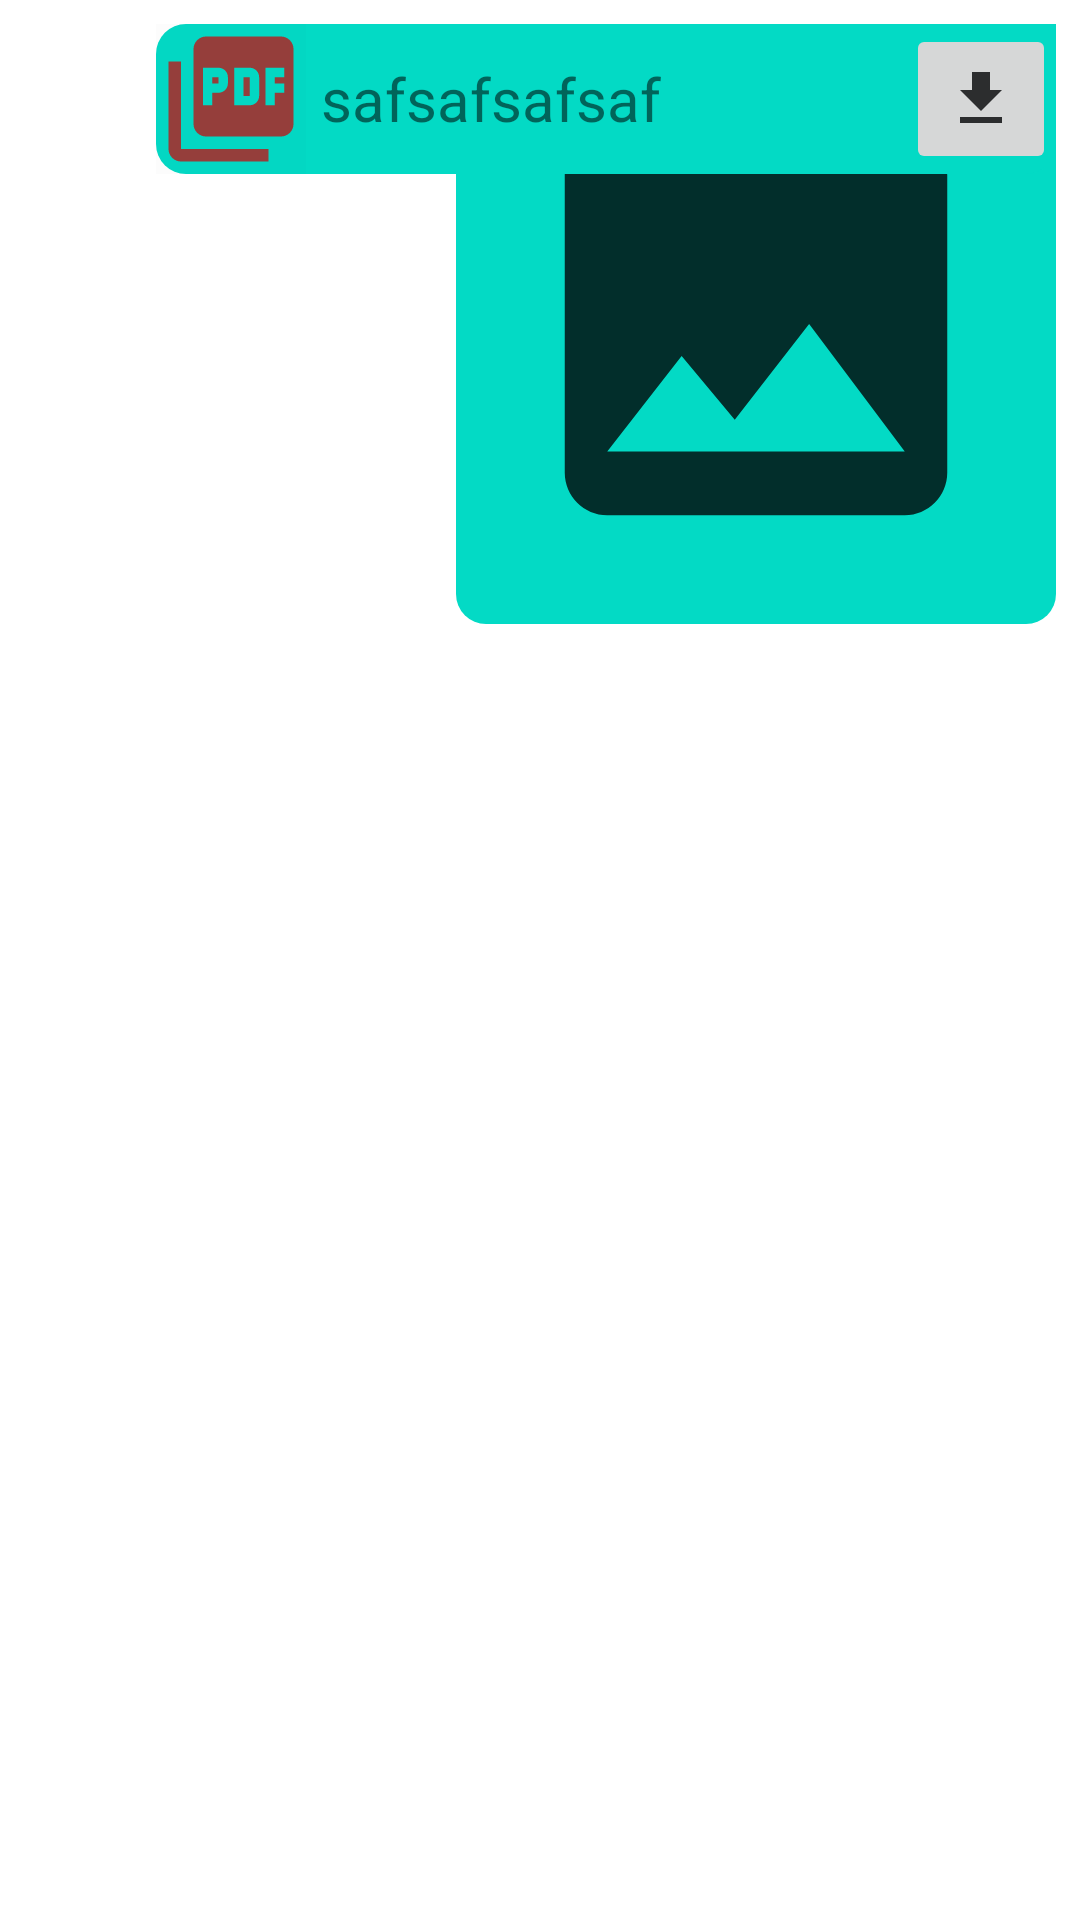

Screen size 1080px x 1920px. Icon name, then its center in pixels as point (x, y):
down: point (981, 99)
file: point (231, 99)
